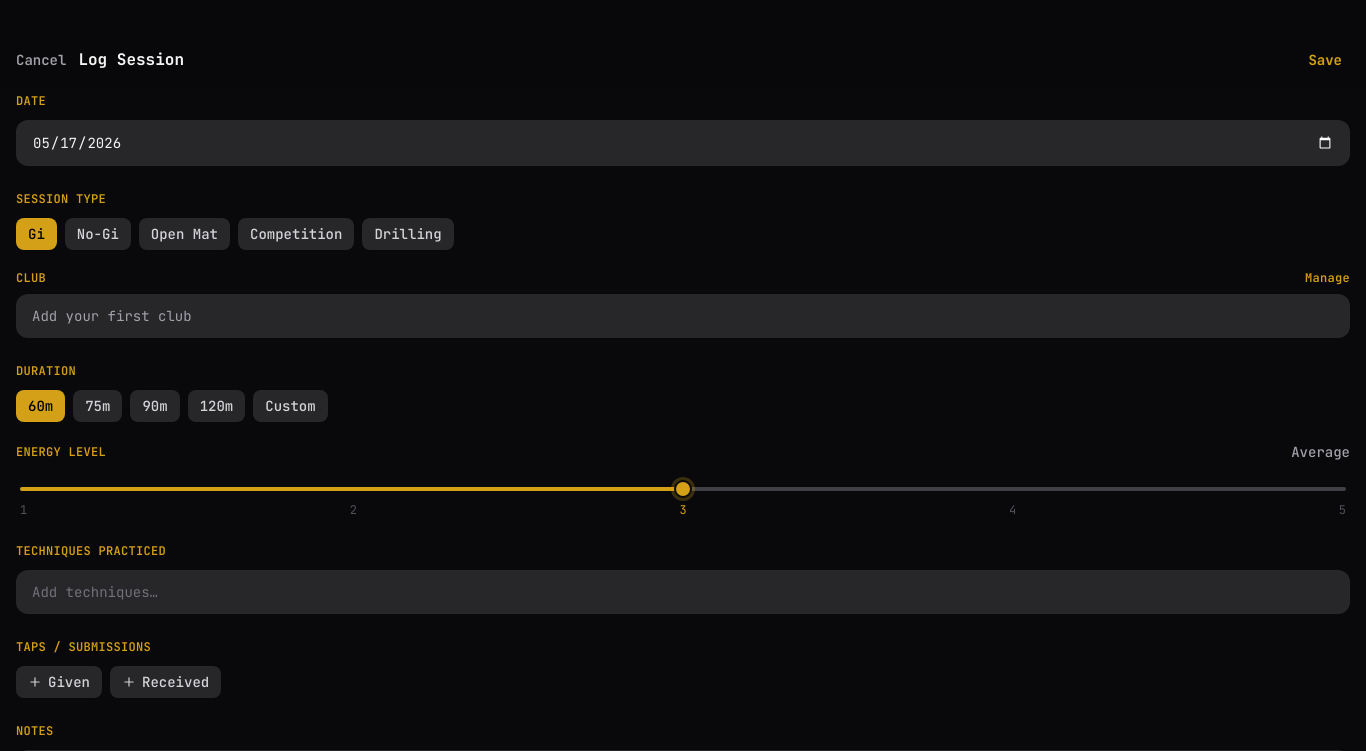
Test: AddEditSessionPage — duration preset buttons › clicking Custom reveals a number input
The image size is (1366, 751).
Click the button "Custom": (290, 406) [253,390,328,422]
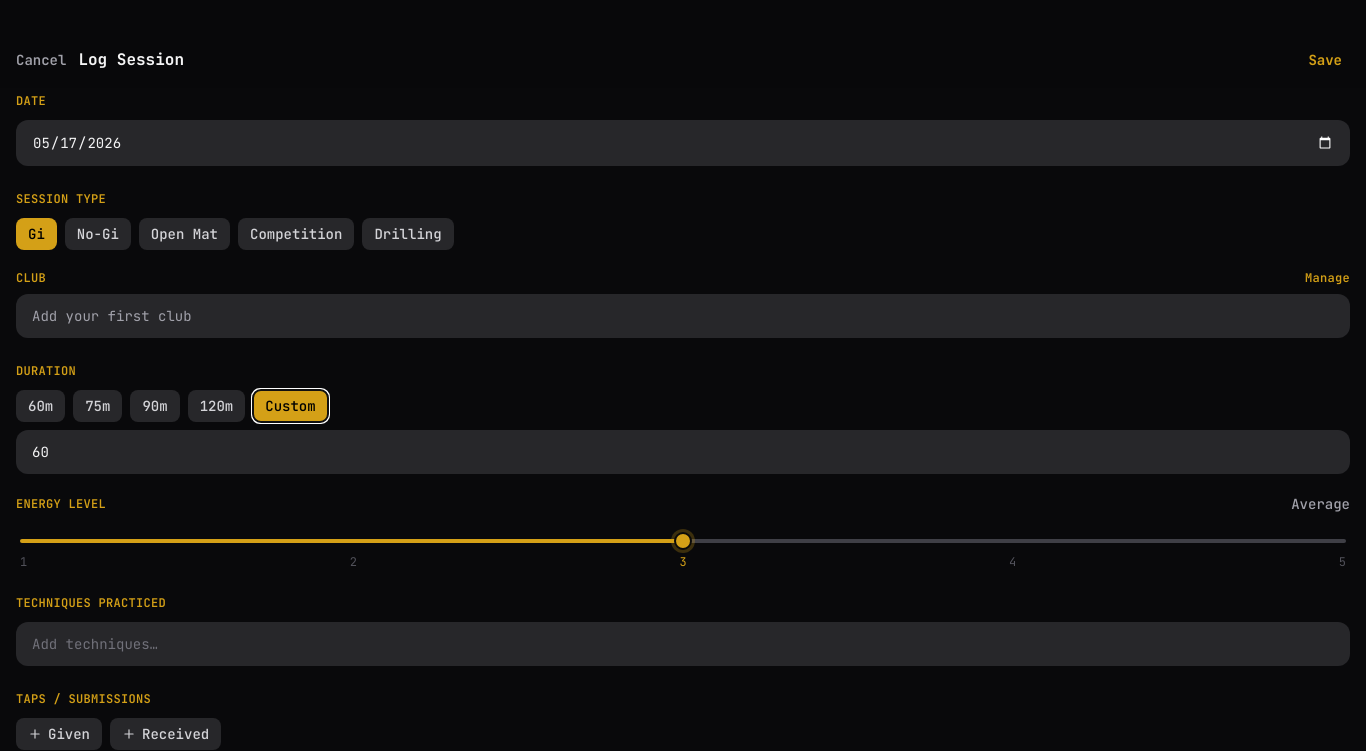
Now the number field with placeholder "Minutes" is shown, box [16,430,1350,474]
